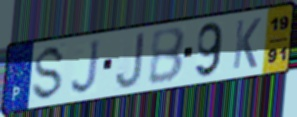9: (194, 20, 226, 79)
B: (147, 25, 188, 87)
J: (114, 30, 147, 91), (69, 37, 102, 97)
K: (230, 16, 263, 71)
S: (29, 43, 68, 103)
